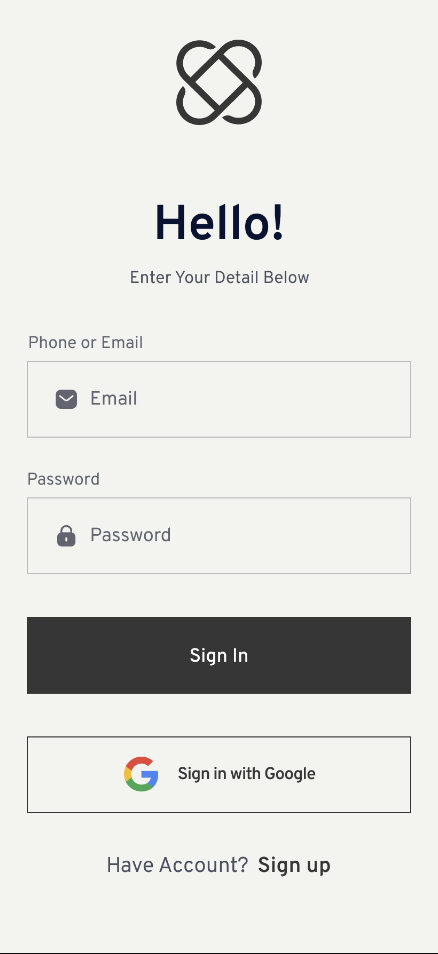Button: (24, 614, 413, 698), (24, 733, 413, 816)
